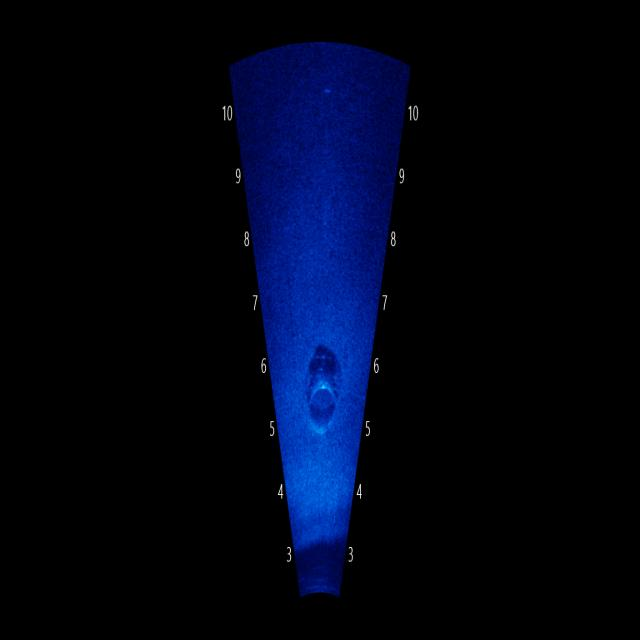circle: (305, 369, 341, 443)
